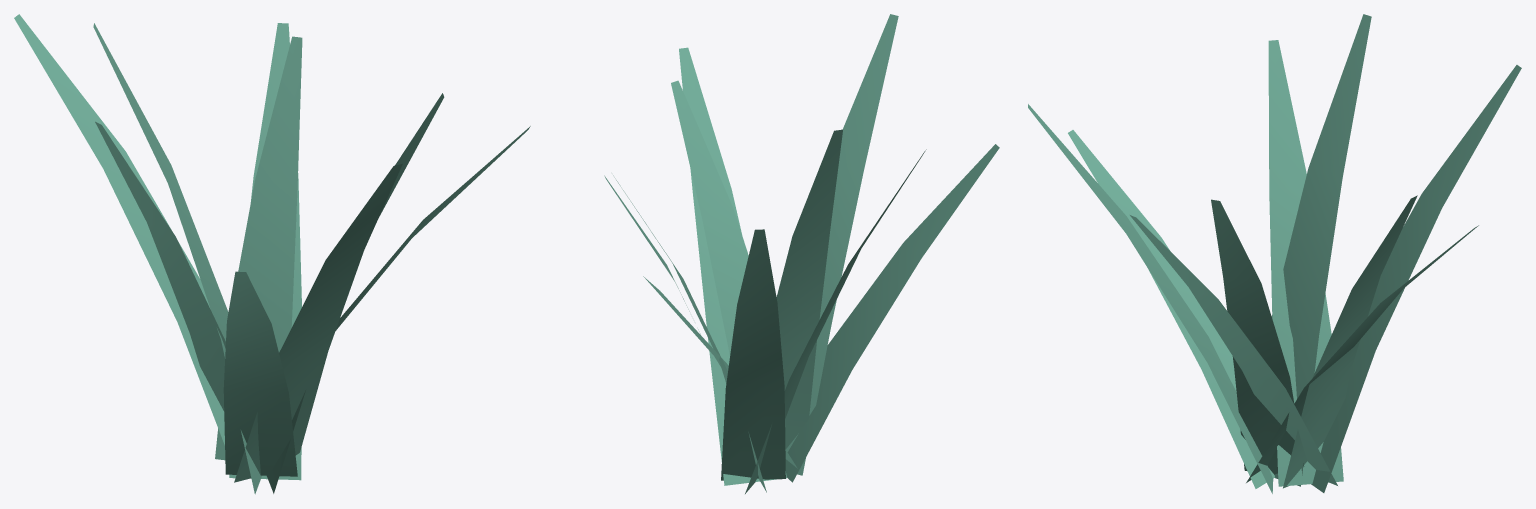
The model's file is SM_Grass_Tuft.glb.
3 views of the same model, side by side, from view 1: azimuth 30°, elevation 25°; view 2: azimuth 150°, elevation 25°; view 3: azimuth 270°, elevation 25° (orthographic). The views are drawn at different scales.
Visible parts, largest first — view 1: SM_Grass_Tuft; view 2: SM_Grass_Tuft; view 3: SM_Grass_Tuft.
Part boxes in pixels (left/top/right/bottom): SM_Grass_Tuft: left=14, top=14, right=530, bottom=494; SM_Grass_Tuft: left=604, top=14, right=999, bottom=493; SM_Grass_Tuft: left=1028, top=14, right=1521, bottom=493.
Bounding box in the file's own units: 0.288 × 0.3429 × 0.3713.
